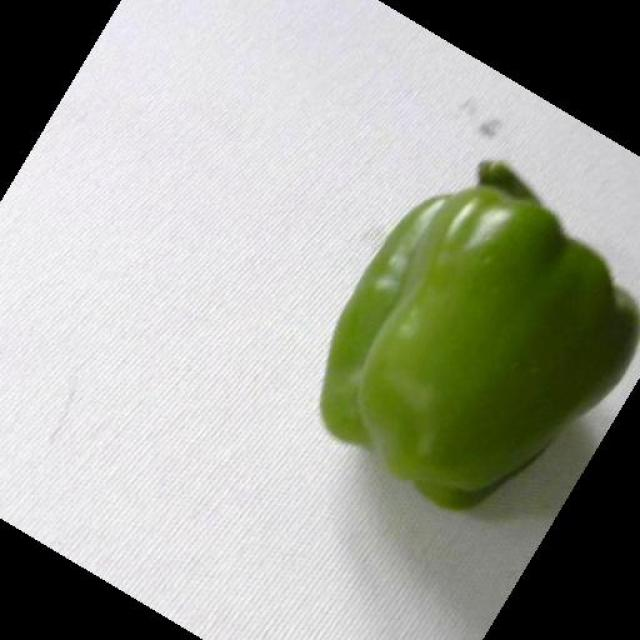Fresh_Capsicum: (317, 178, 640, 484)
